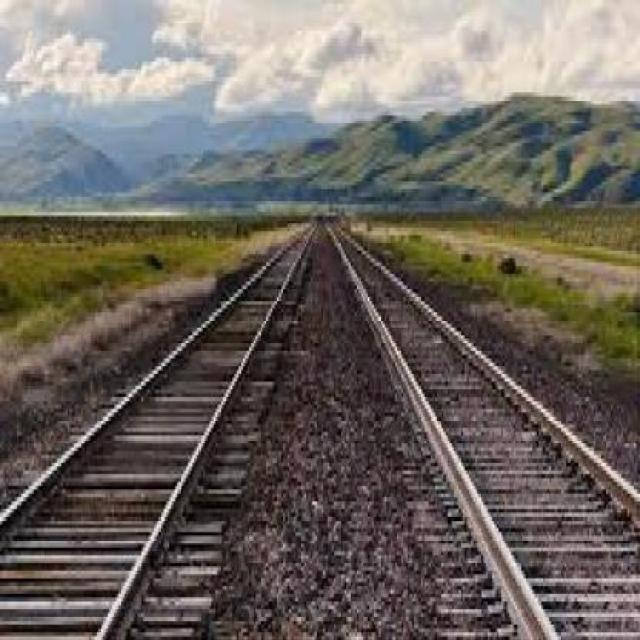rail: (1, 202, 638, 640)
